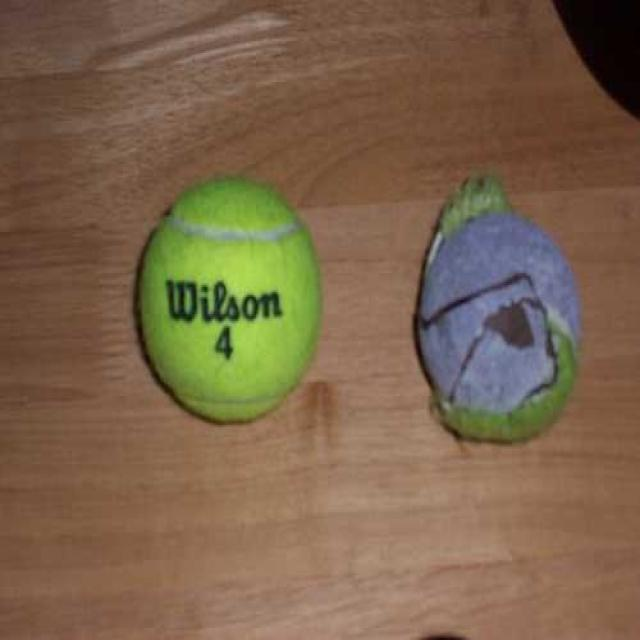Tennis_Ball: (143, 175, 317, 413)
